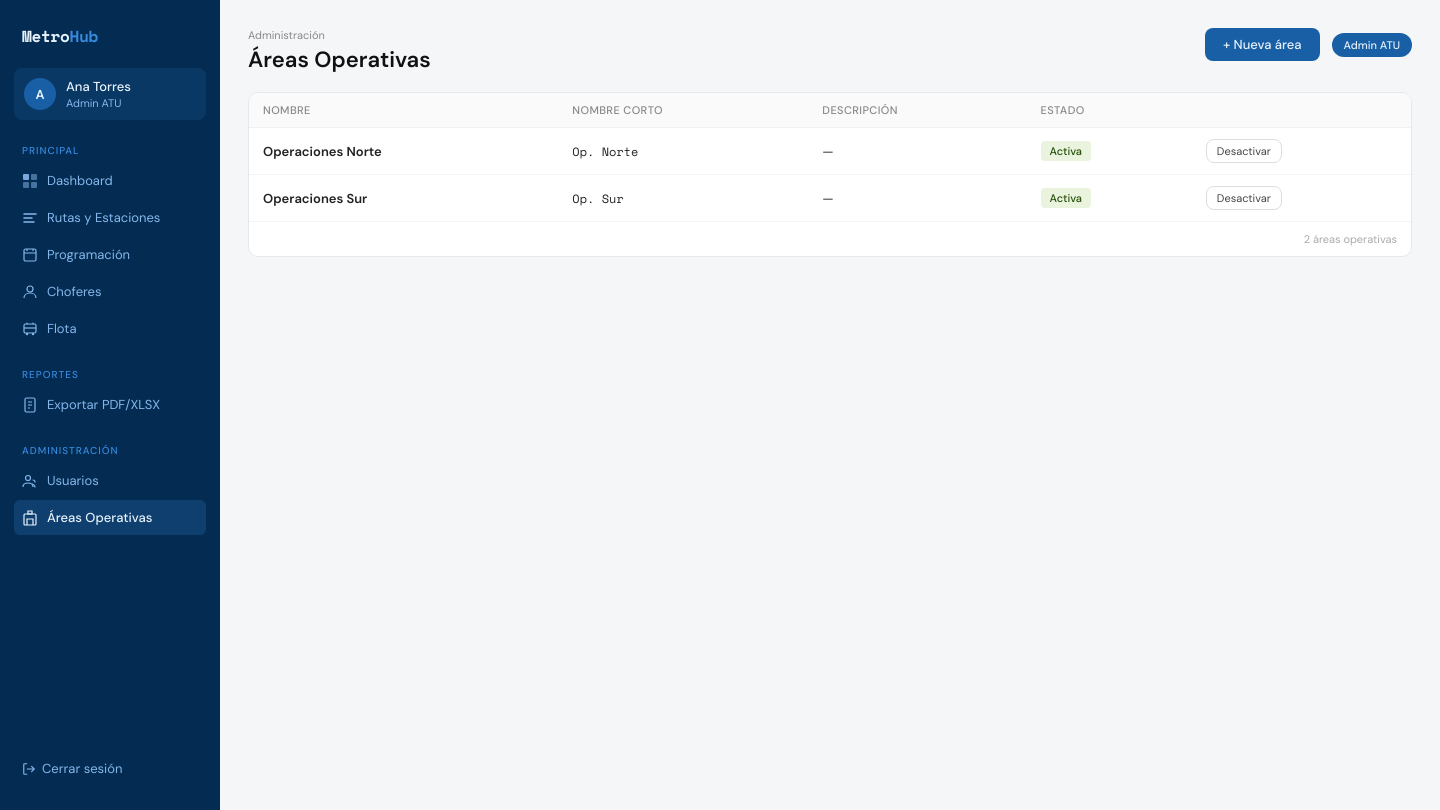
Areas (RF08) › valida campos obligatorios al crear
Expected: the text "Operaciones Norte" is shown, [263,142,382,160]
Click the button "+ Nueva área".
click(1262, 44)  # box [1205,28,1320,61]
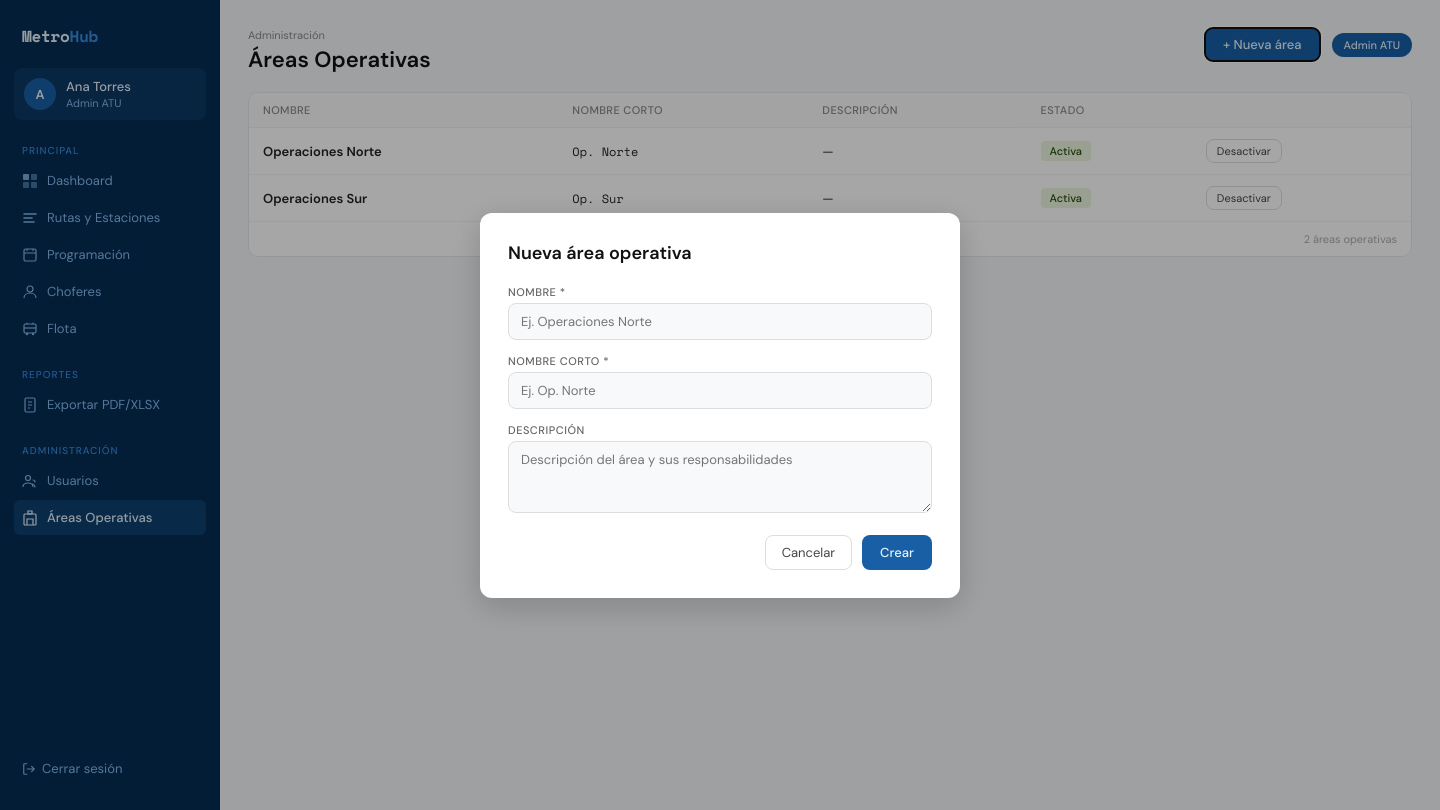
Click the button "Crear".
click(897, 552)  # box [862,534,932,570]
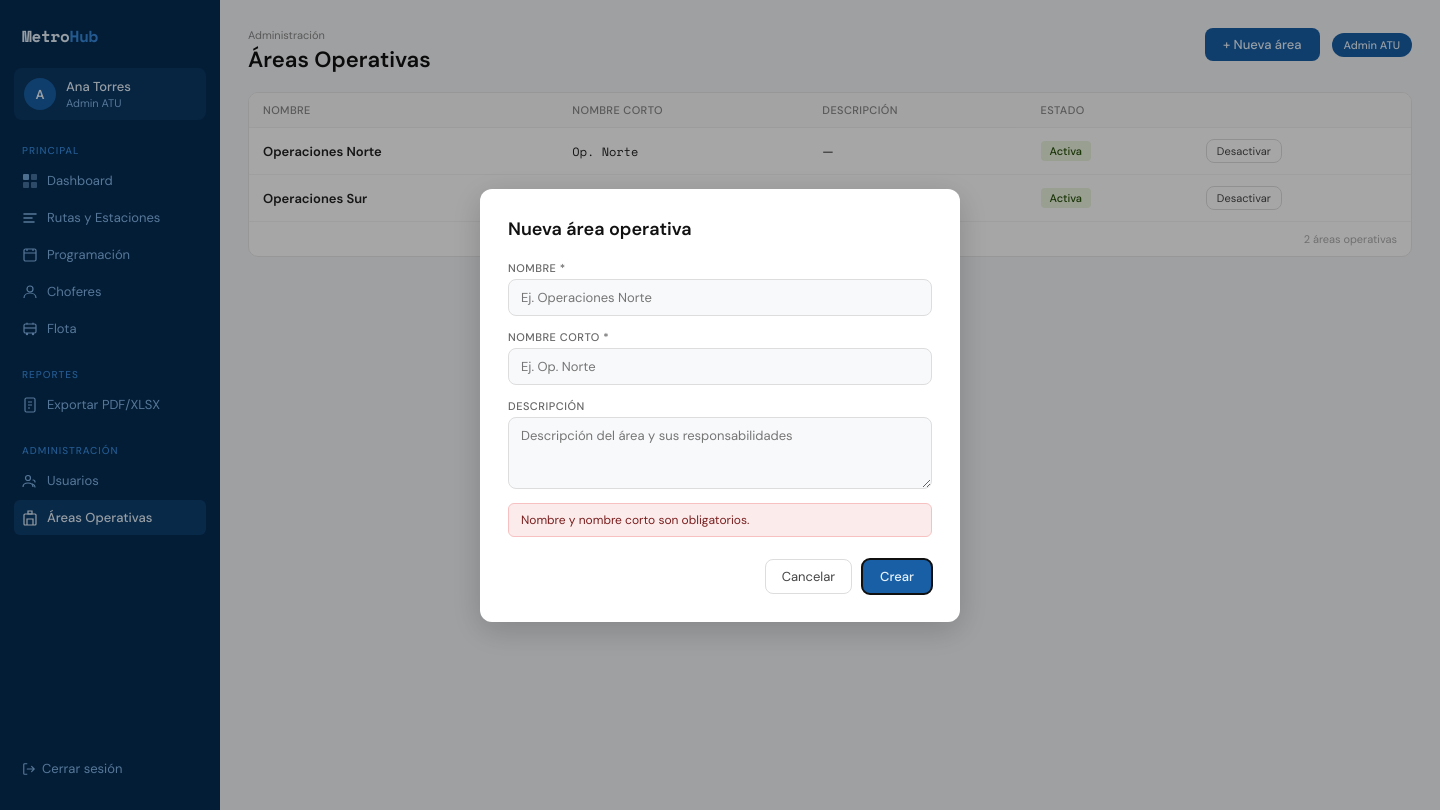
Expected: the text "Nombre y nombre corto son obligatorios." is shown, [521,512,749,528]
